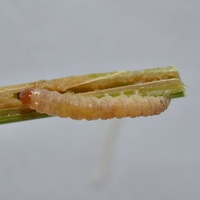insect: (0, 67, 184, 123)
